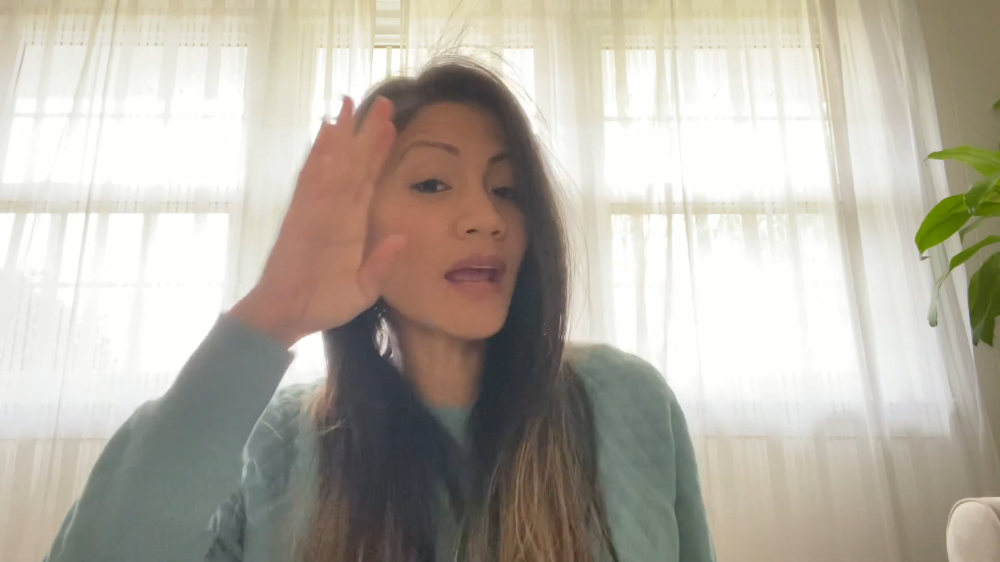hello: (271, 97, 409, 327)
